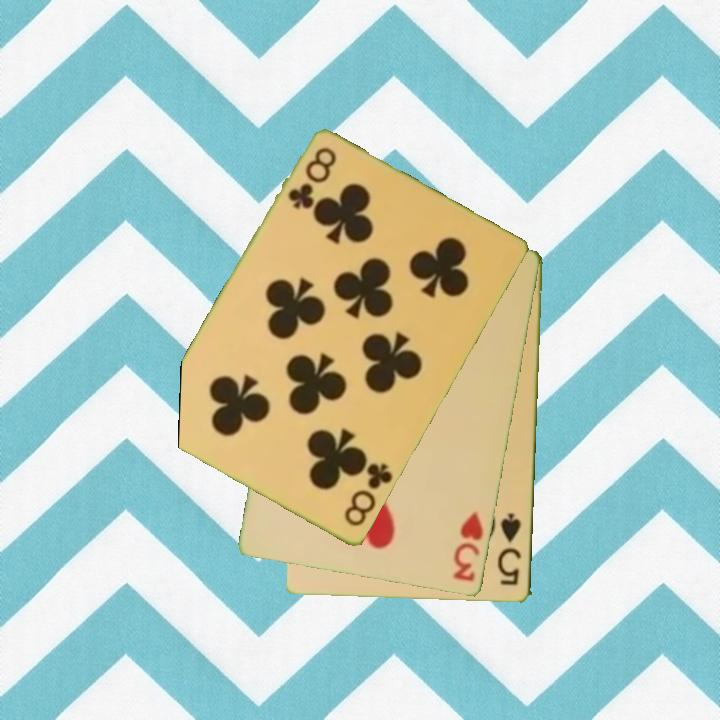3h: (450, 508, 487, 585)
5s: (496, 510, 525, 589)
8c: (340, 460, 396, 530), (284, 144, 340, 213)
